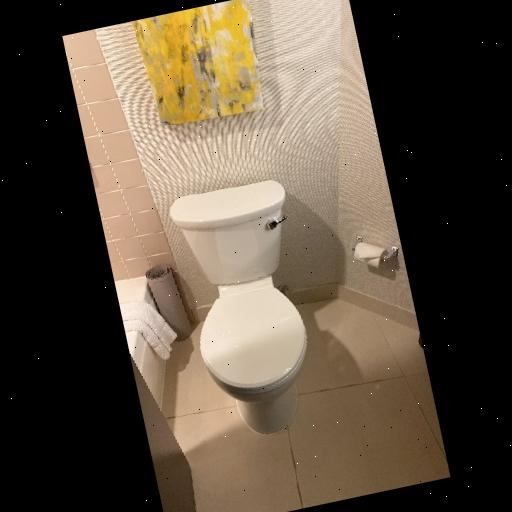clean_floor: (158, 294, 446, 512)
clean_toilet: (152, 174, 332, 450)
folded_towel: (117, 294, 182, 363)
